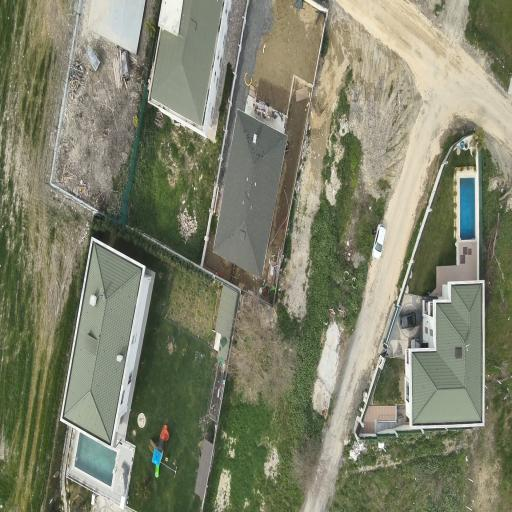car: (372, 224, 386, 259), (400, 311, 417, 328)
